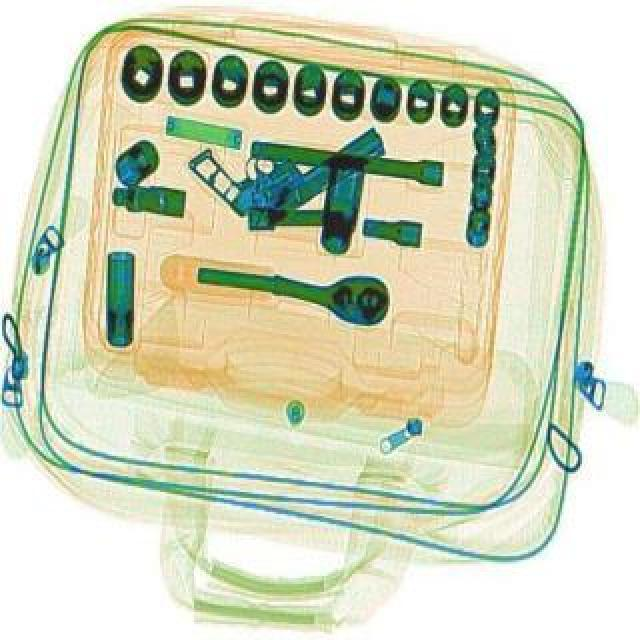gun: (184, 72, 390, 248)
